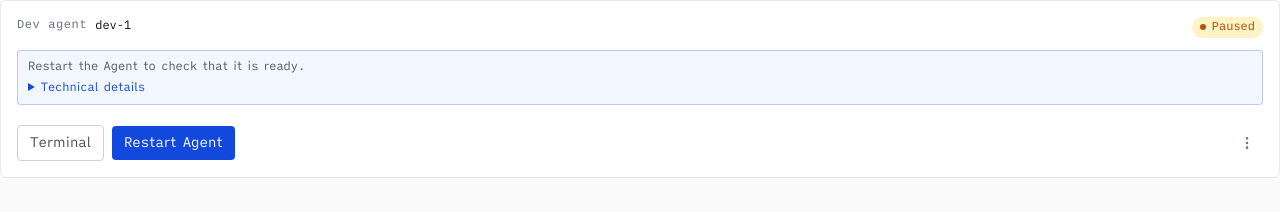
shows recovery guidance with optional diagnostics in en-US for greeting_failed
Expected: the text "Restart the Agent to check that it is ready." is shown, x1=28 y1=59 x2=305 y2=74
Expected: the button "Restart Agent" is shown, x1=112 y1=126 x2=235 y2=160
Click the heading "Technical details" at (93, 87), box x1=41 y1=80 x2=145 y2=95
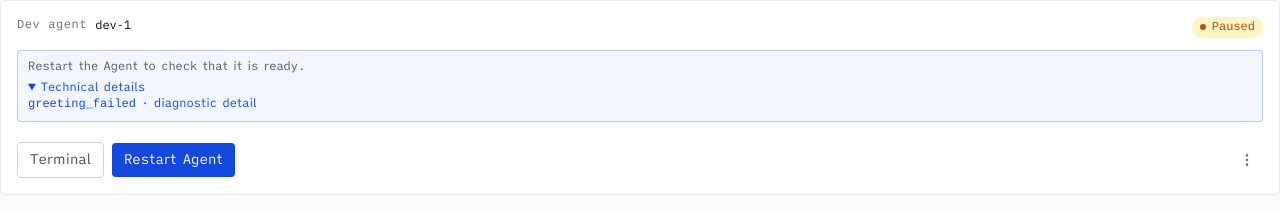
Now the text "greeting_failed" shows "diagnostic detail", box x1=154 y1=96 x2=257 y2=111
